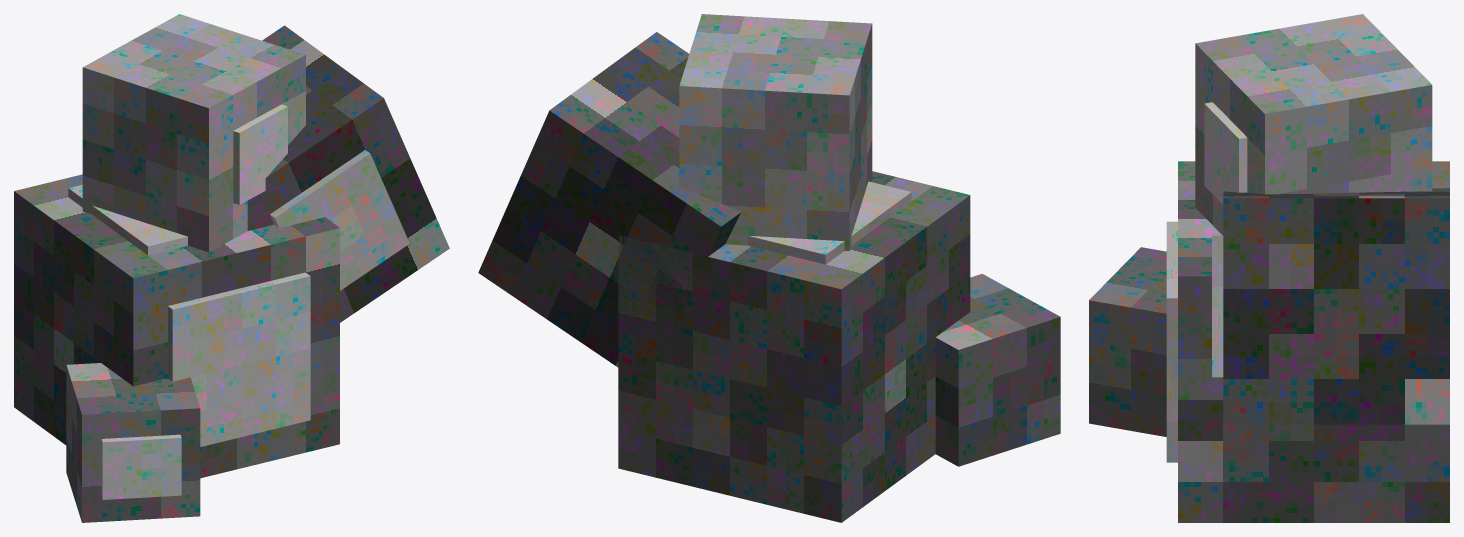
Rendered from ore_crystal.glb.
The picture shows the model from 3 angles, left to right: view 1: azimuth 30°, elevation 25°; view 2: azimuth 150°, elevation 25°; view 3: azimuth 270°, elevation 25°; orthographic projection. The views are drawn at different scales.
Parts seen in each view (by area): view 1: cube_cyan, cube_gold, rune_cyan_front, cube_purple, cube_green, rune_purple_front, rune_green_front, rune_gold_front, rune_cyan_top; view 2: cube_cyan, cube_purple, cube_gold, cube_green, rune_cyan_top; view 3: cube_purple, cube_cyan, cube_gold, cube_green, rune_gold_front, rune_cyan_front, rune_purple_front.
Part boxes in pixels (x1,y1,x2,y2): cube_cyan: (14,174,339,478); cube_gold: (82,14,305,252); rune_cyan_front: (168,272,310,446); cube_purple: (247,25,449,322); cube_green: (66,363,200,522); rune_purple_front: (270,150,409,290); rune_green_front: (101,434,181,499); rune_gold_front: (233,104,287,204); rune_cyan_top: (68,185,187,255); cube_cyan: (618,171,970,522); cube_purple: (478,32,741,367); cube_gold: (679,14,872,251); cube_green: (935,273,1060,466); rune_cyan_top: (747,181,911,264); cube_purple: (1223,188,1449,424); cube_cyan: (1178,161,1449,522); cube_gold: (1195,14,1432,235); cube_green: (1089,247,1166,436); rune_gold_front: (1204,102,1247,204); rune_cyan_front: (1166,221,1177,462); rune_purple_front: (1212,235,1223,377).
Size of the model in its own units: 0.7329 by 0.625 by 0.4975.
Materials: 1 (1 with a texture image).
